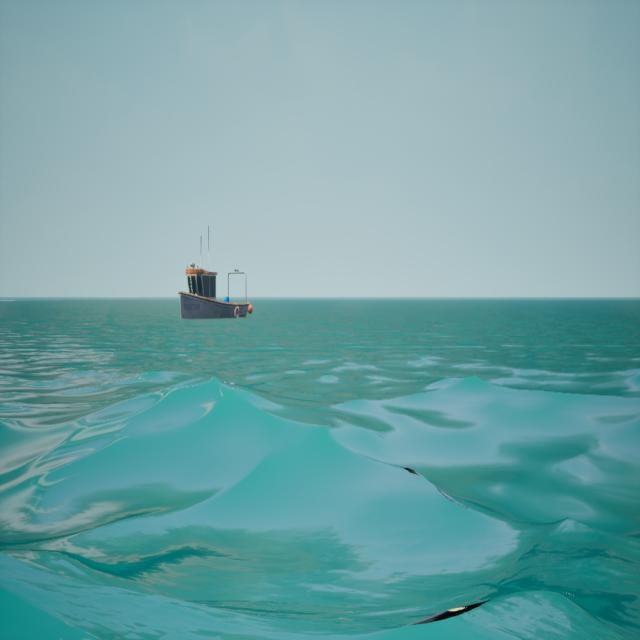ship: (174, 218, 256, 328)
